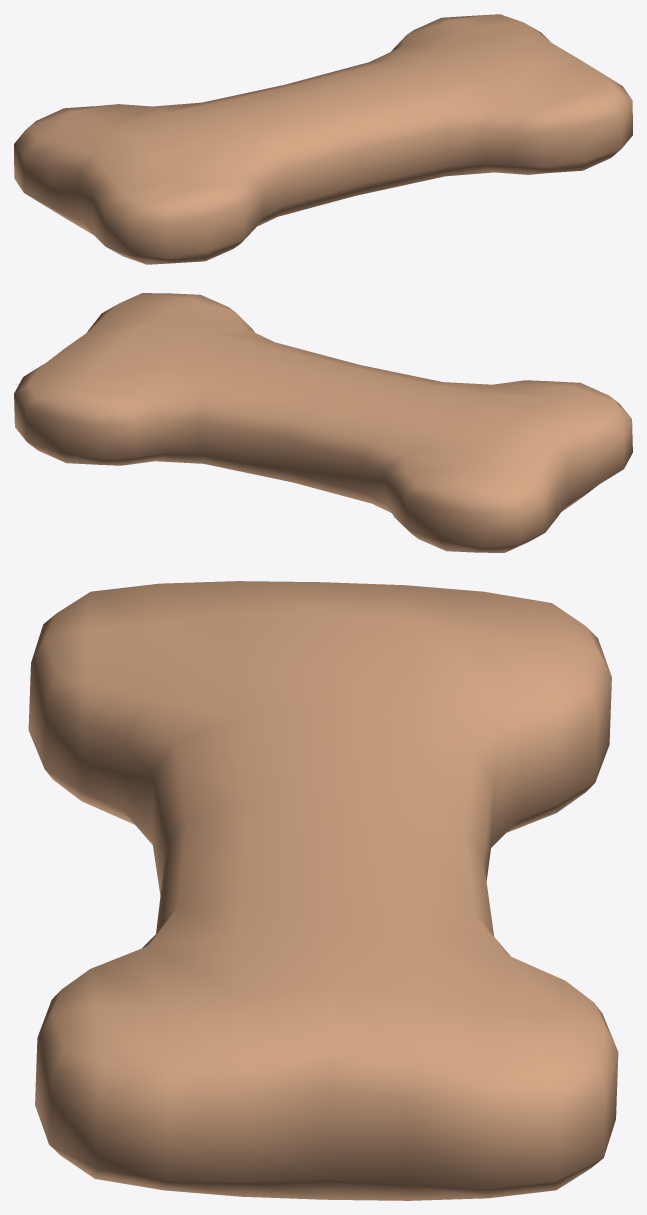
File: DogAccesories-005.fbx
3 views of the same model, one above another, from view 1: azimuth 30°, elevation 25°; view 2: azimuth 150°, elevation 25°; view 3: azimuth 270°, elevation 25° (orthographic). The views are drawn at different scales.
Visible parts, largest first — view 1: DogAccesories-005; view 2: DogAccesories-005; view 3: DogAccesories-005.
Part boxes in pixels (x1,y1,x2,y2): DogAccesories-005: (14,14,632,264); DogAccesories-005: (14,293,632,552); DogAccesories-005: (28,581,618,1200).
Bounding box in the file's own units: 0.259 × 0.0453 × 0.127.
